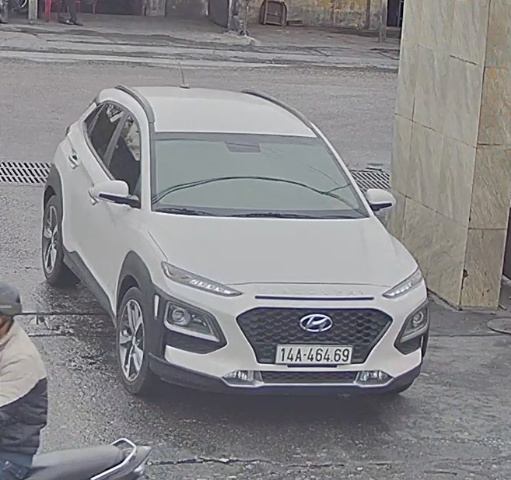vehicle plate: (268, 339, 358, 372)
